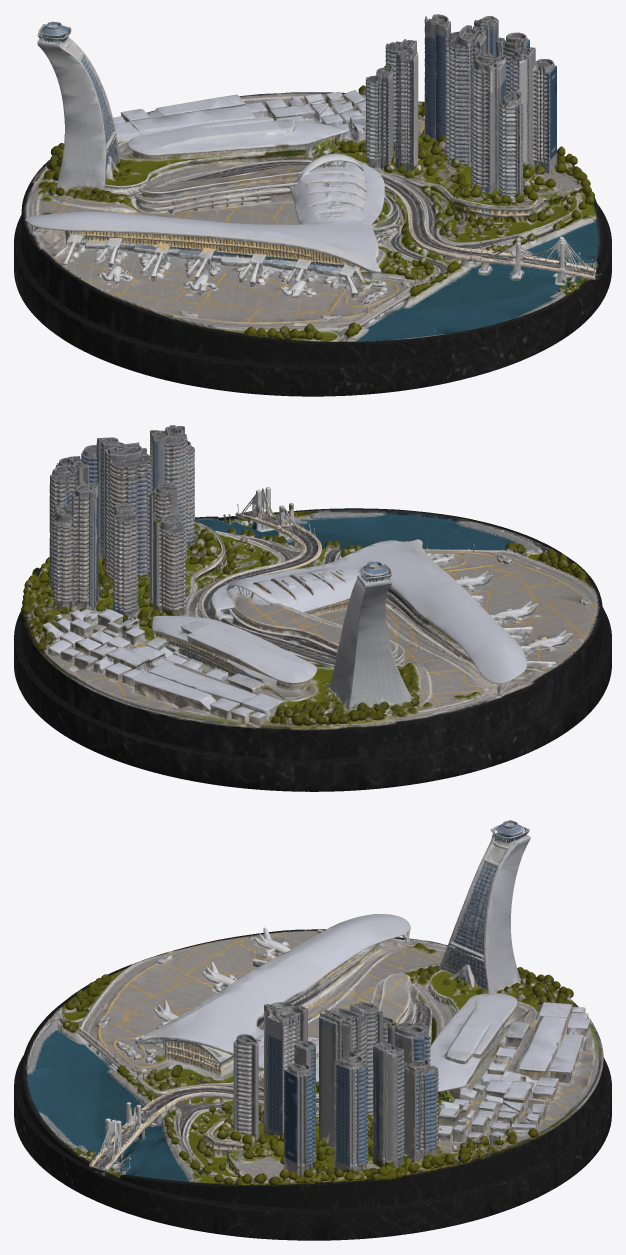
The model's file is diorama-airport.glb.
3 renders of one model, top to bottom at view 1: azimuth 30°, elevation 25°; view 2: azimuth 150°, elevation 25°; view 3: azimuth 270°, elevation 25°, orthographic.
Size of the model in its own units: 1.9 by 0.7473 by 1.9.
Materials: 1 (1 with a texture image).
